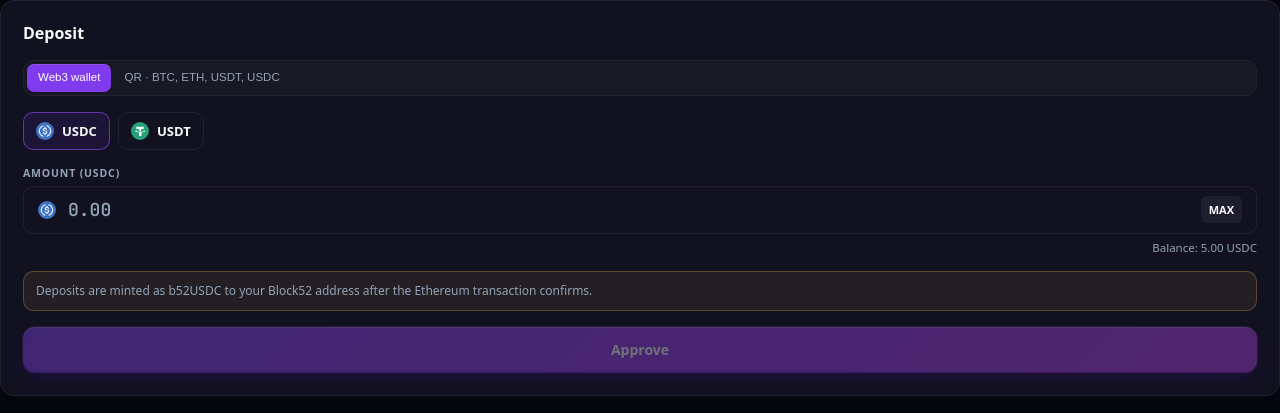
Test: DepositWithdrawPanel › MAX fills the deposit amount from the web3 balance
Click the button "MAX": (1221, 210) [1201,196,1242,223]
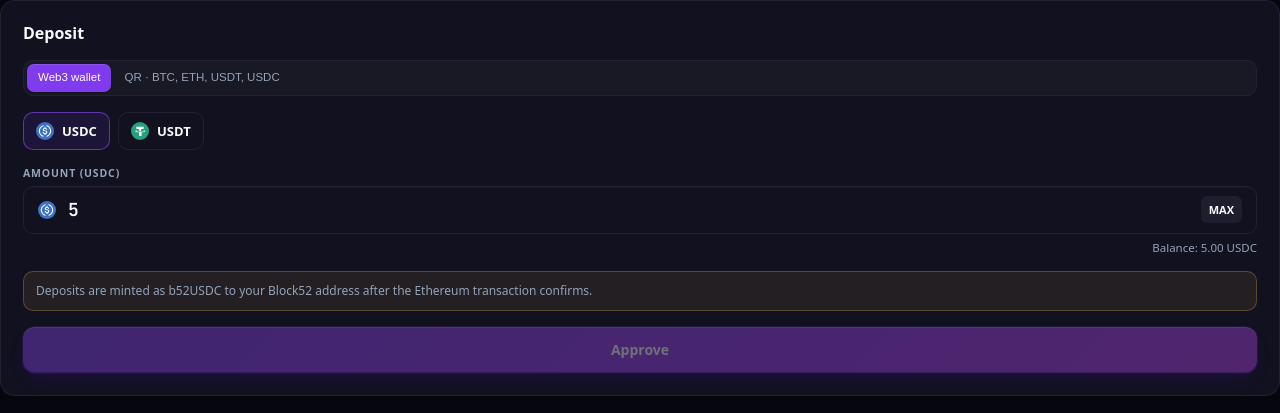
expect the number field with placeholder "0.00" holds "5": met, box [66,197,1191,222]
